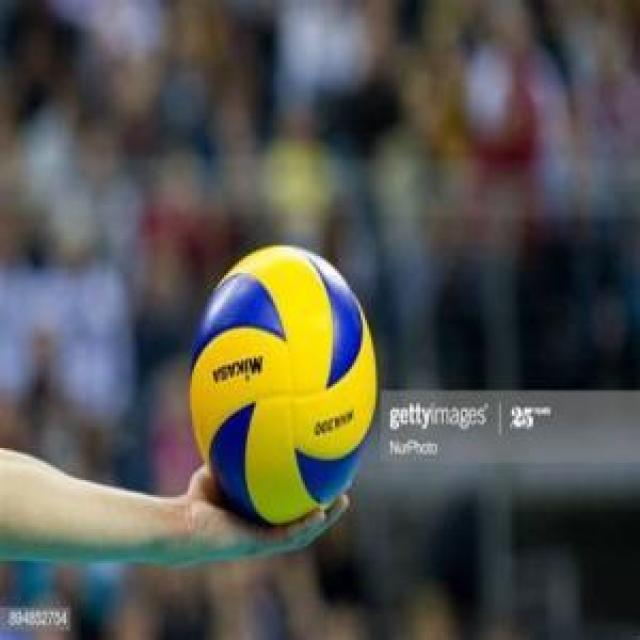volleyball: (189, 243, 374, 529)
